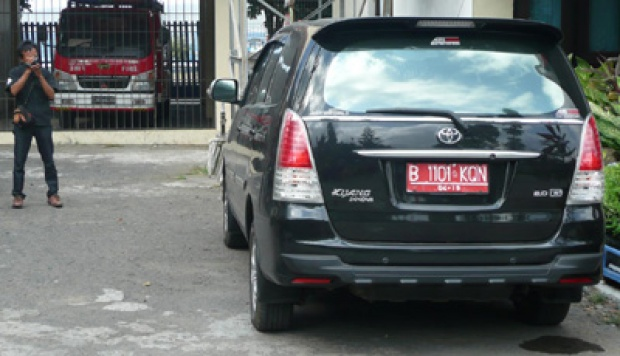plate: (408, 164, 487, 194), (90, 97, 115, 105)
